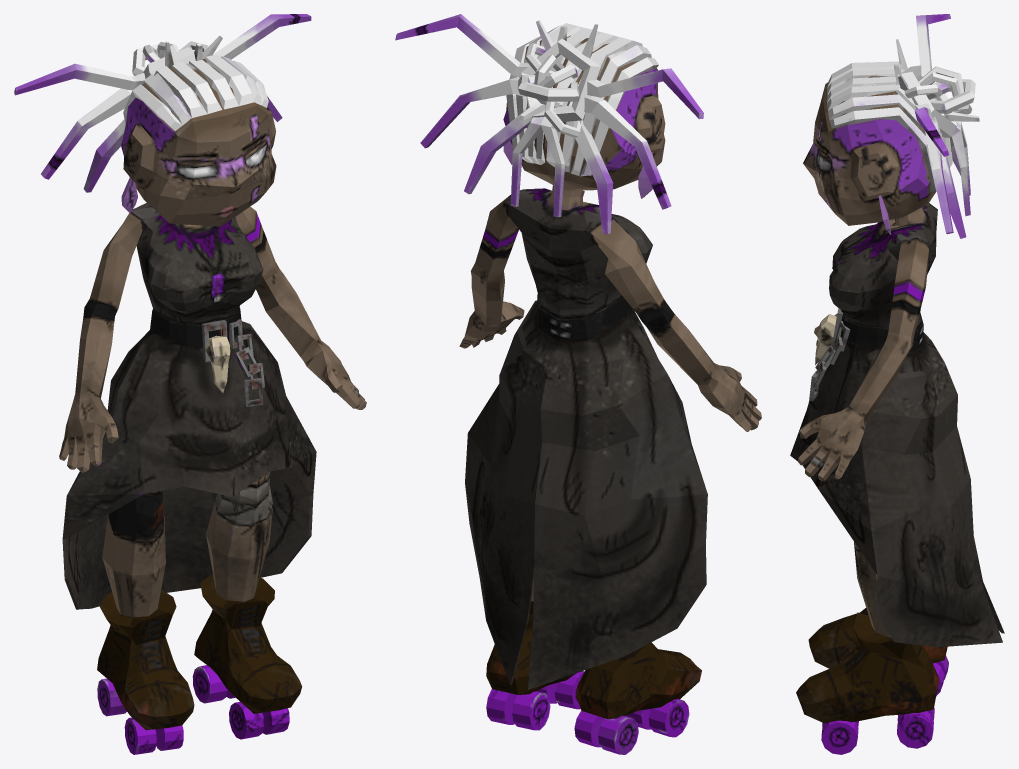
The model's file is bruja_000235.obj.
3 views of the same model, side by side, from view 1: azimuth 30°, elevation 25°; view 2: azimuth 150°, elevation 25°; view 3: azimuth 270°, elevation 25° (orthographic). The views are drawn at different scales.
Visible parts, largest first — view 1: Bruja_Plane.001; view 2: Bruja_Plane.001; view 3: Bruja_Plane.001.
Part boxes in pixels (x1,y1,x2,y2): Bruja_Plane.001: (14,14,366,754); Bruja_Plane.001: (395,14,761,754); Bruja_Plane.001: (790,14,1004,754).
Bounding box in the file's own units: 7.48 × 16.63 × 4.79.
